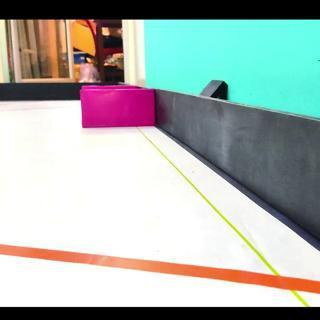xparking: (81, 91, 150, 126)
